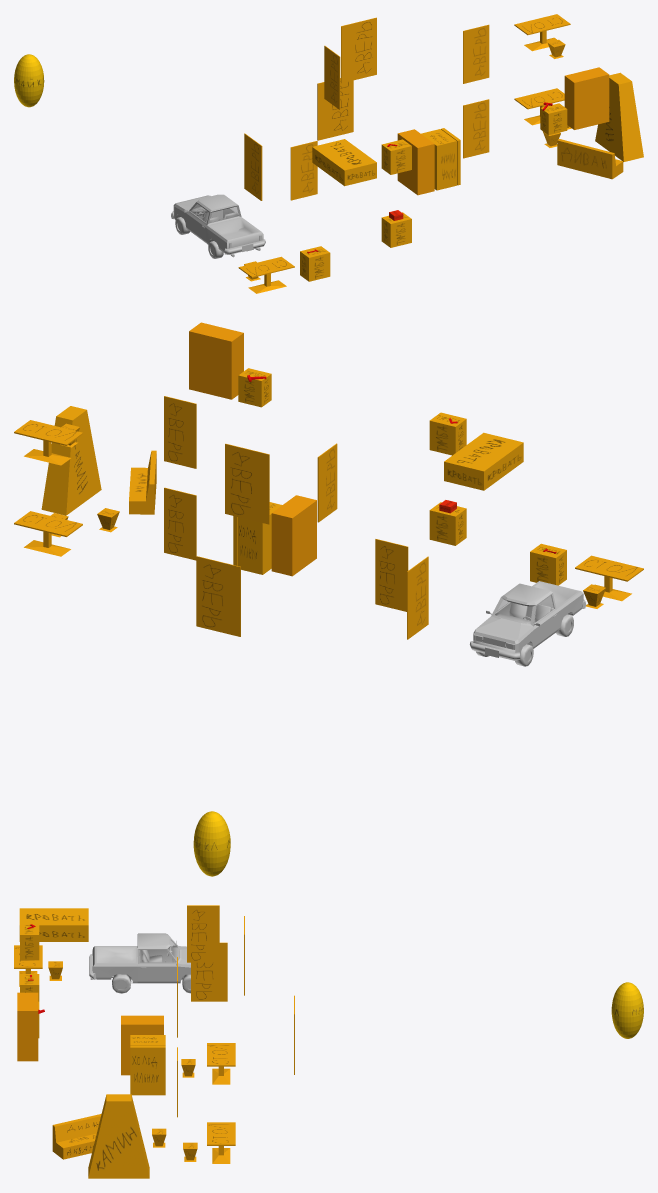
3 renders of one model, top to bottom at view 1: azimuth 30°, elevation 25°; view 2: azimuth 150°, elevation 25°; view 3: azimuth 270°, elevation 25°, orthographic. The views are drawn at different scales.
Visible parts, largest first — view 1: Objects, picap; view 2: Objects, picap; view 3: Objects, picap.
Part boxes in pixels (x1,y1,x2,y2): Objects: (14,14,643,293); picap: (171,194,265,258); Objects: (14,322,643,876); picap: (469,581,586,666); Objects: (14,905,643,1178); picap: (89,933,190,993).
Size of the model in its own units: 413 by 166 by 494.
